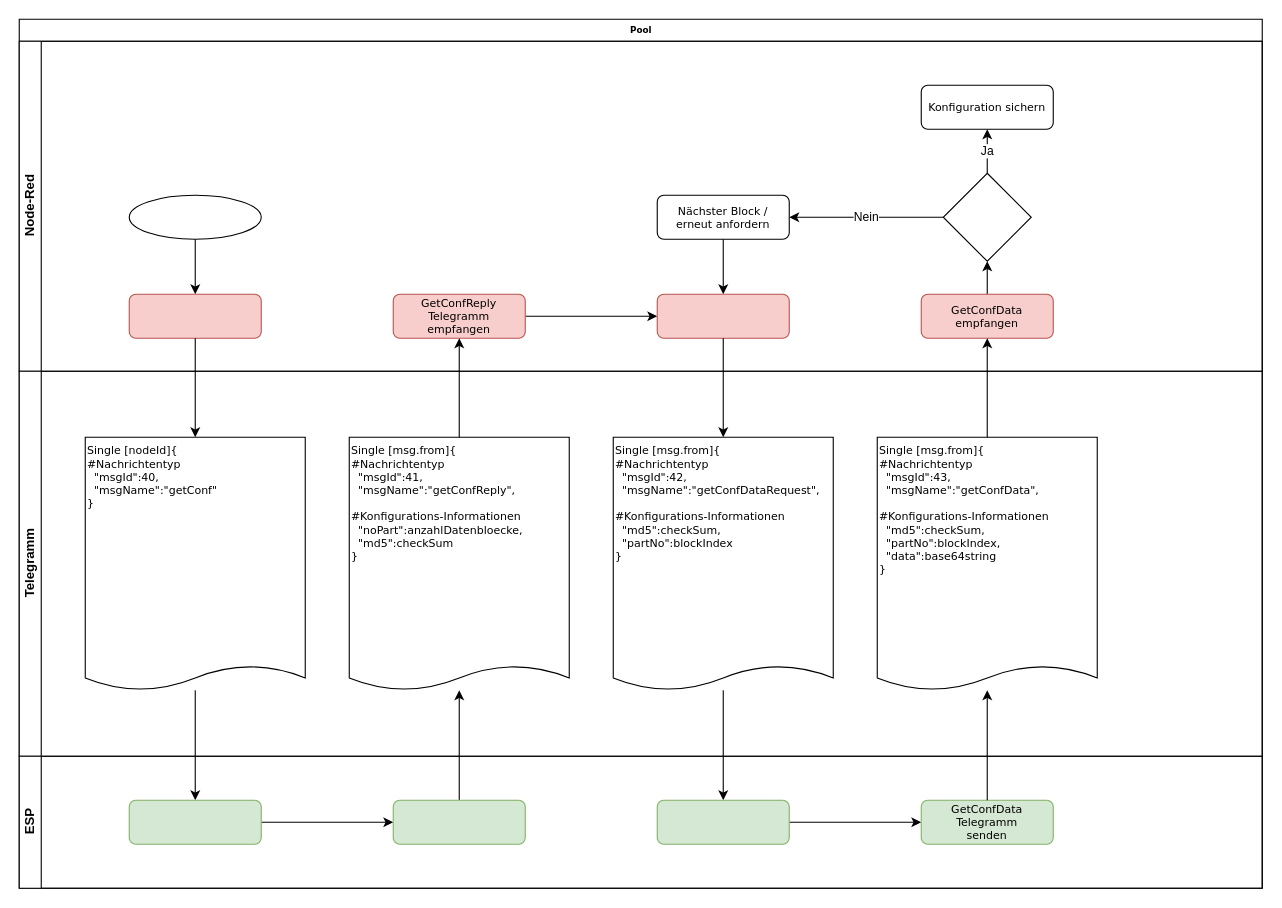
Some shapes in this 1282 by 908 pixel diagram are drawn without their labels. The centre of each missing label's shape, as x and y in pixels:
"GetConf Telegramm empfangen" belongs at (x=194, y=821).
"GetConfDataRequest Telegramm empfangen" belongs at (x=722, y=821).
"GetConfDataRequest Telegramm senden (je Block)" belongs at (x=722, y=315).
"GetConfReply Telegramm senden" belongs at (x=458, y=821).
"Konfigurations Anbfrage senden" belongs at (x=194, y=216).
"Letzter Block" belongs at (x=986, y=216).
"MeshGetConf-Telegramm senden" belongs at (x=194, y=315).
